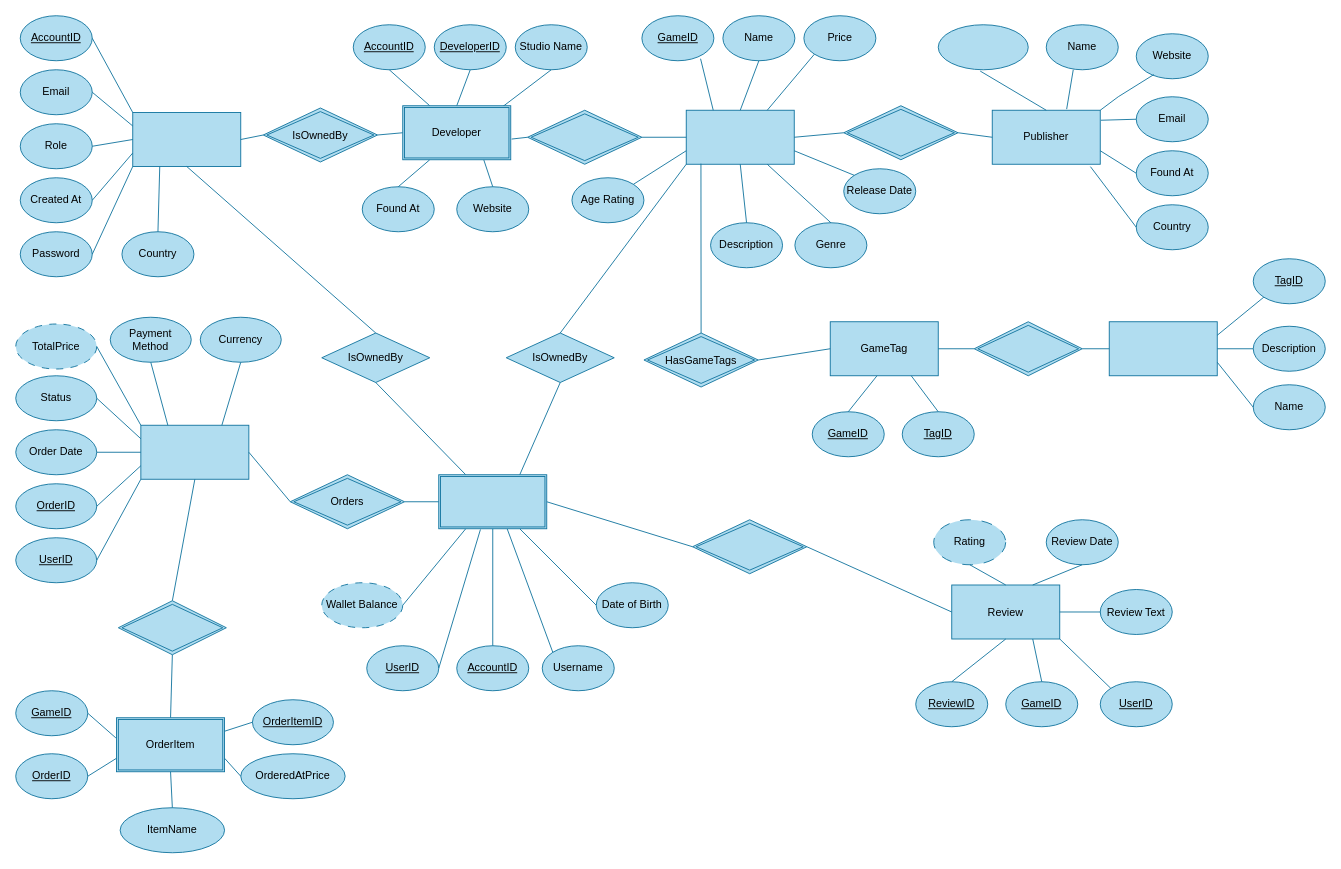
Image size: 1341x869. Some labels were removed from this diagram. The centre of each missing label's shape, as x and y in pixels:
Account: (186,139)
Game: (739,136)
Has: (1027,348)
IncludesItem: (171,627)
IsDevelopedBy: (584,136)
IsPublishedBy: (900,132)
Order: (194,451)
PublisherID: (982,47)
Tag: (1162,348)
User: (492,501)
Writes: (749,546)
